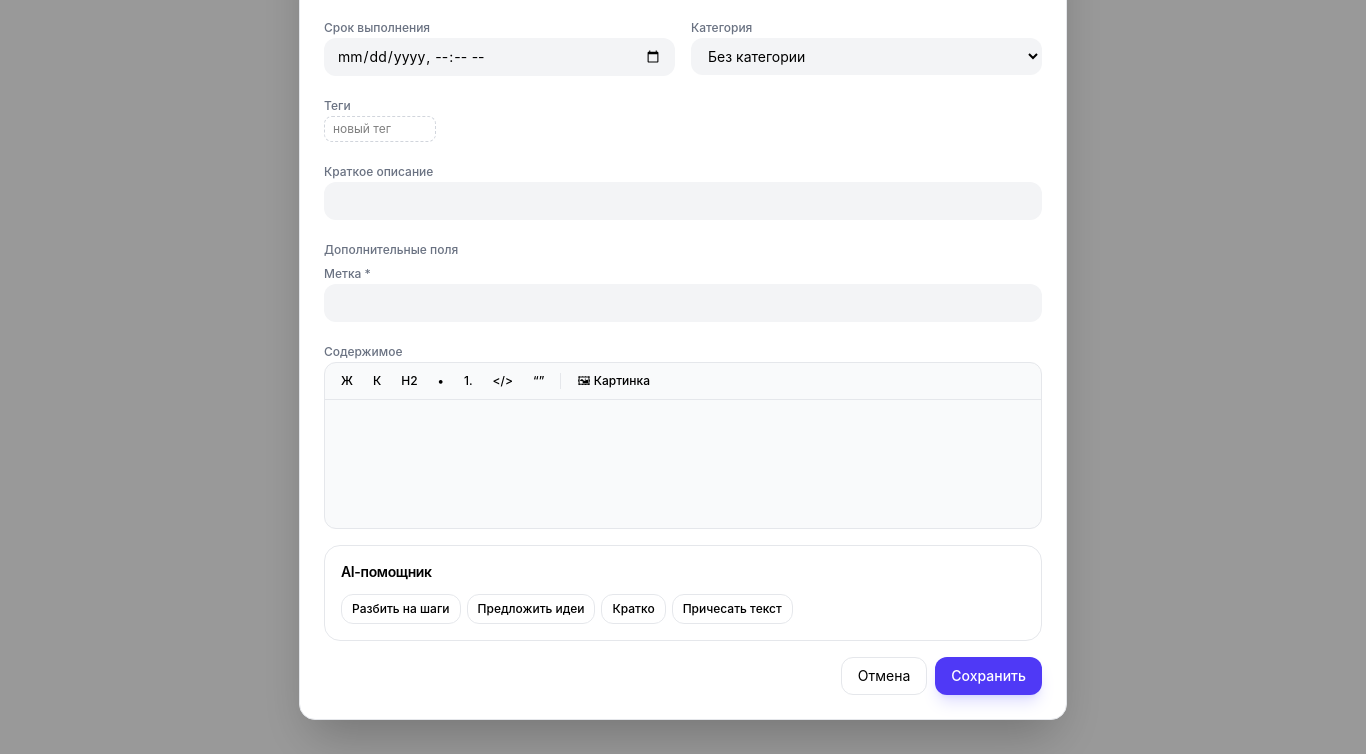
Test: TaskDialog: ошибки валидации › показывает сообщение у поля, связывает его с input и ставит фокус
The width and height of the screenshot is (1366, 754).
(page scrolled)
Click the button "Сохранить" at x=989, y=676, box [935,657,1042,695]
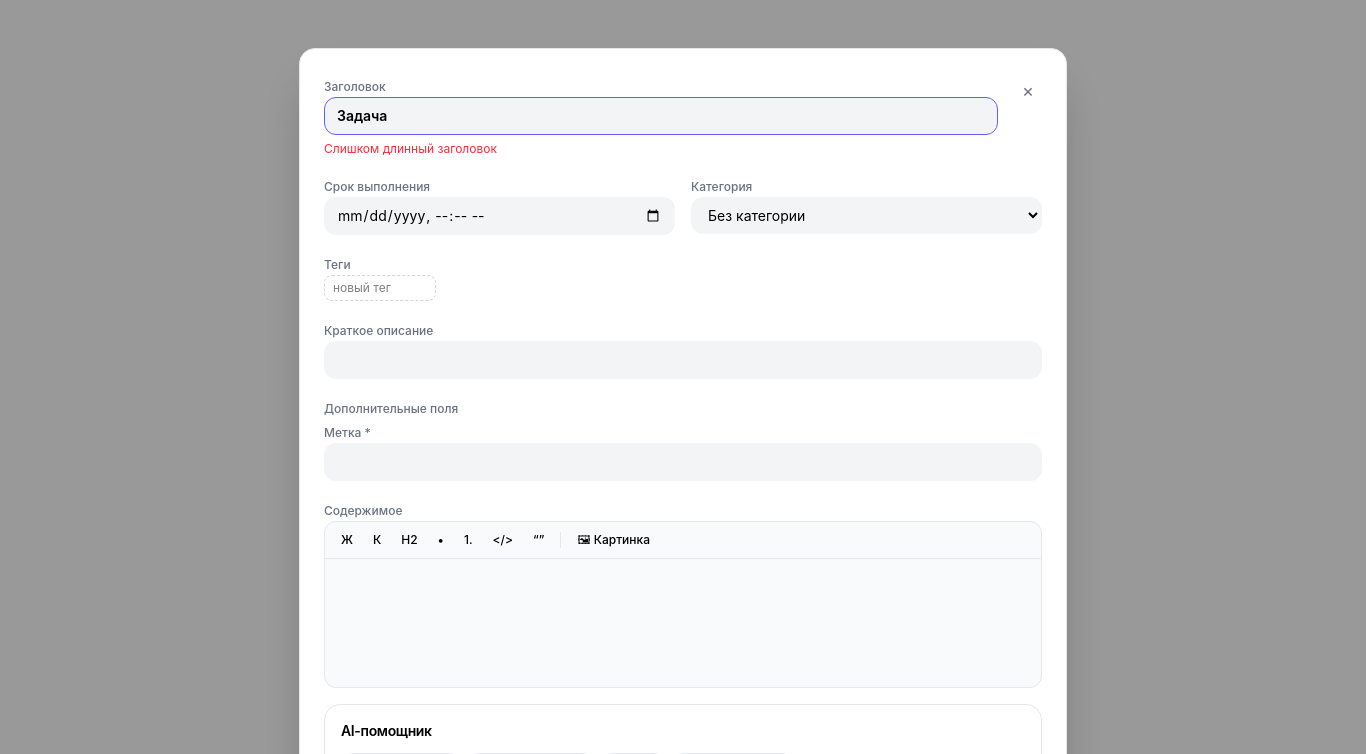
Now the text "Слишком длинный заголовок" is shown, box [324,141,497,156]
